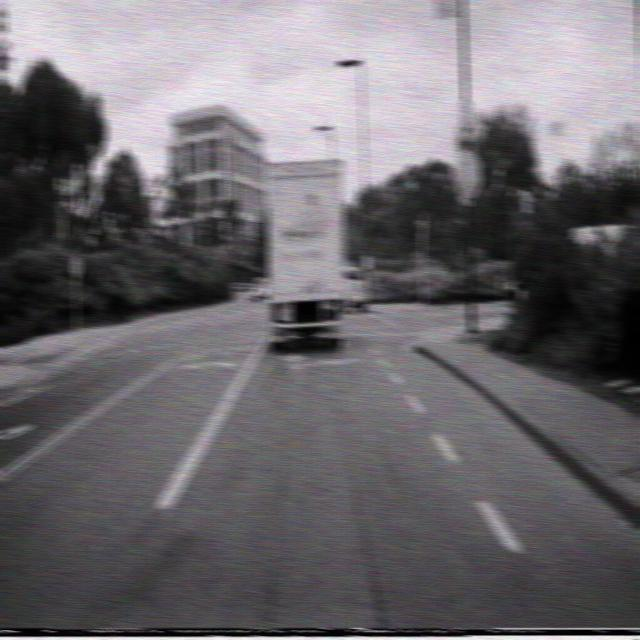stop: (453, 147, 482, 199)
